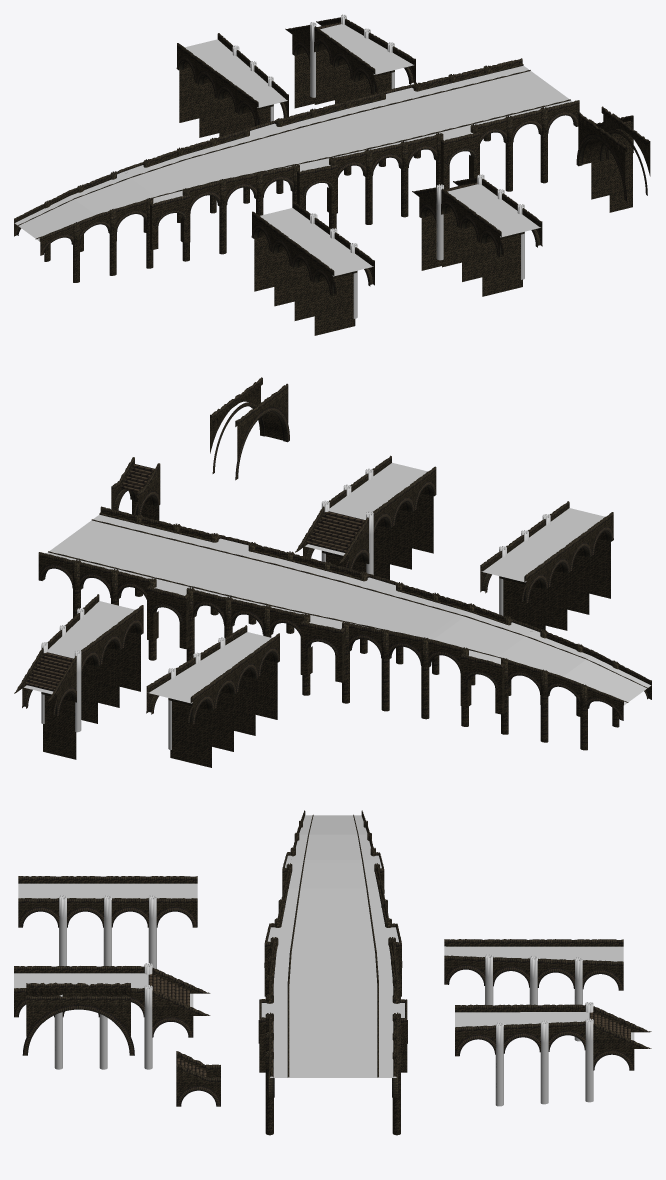
The model's file is EnvMdrMD_Mount_C_Bridge_A.FBX.
3 views of the same model, one above another, from view 1: azimuth 30°, elevation 25°; view 2: azimuth 150°, elevation 25°; view 3: azimuth 270°, elevation 25° (orthographic). The views are drawn at different scales.
Visible parts, largest first — view 1: EnvMdrMD_Mount_C_Bridge_Floor_Unique_Deform_A, EnvMdrMD_Mount_C_Bridge_B_Spline, EnvMdrMD_Mount_C_Bridge_B_Spline_AddStairs_A, EnvMdrMD_Mount_C_Bridge_B_Spline_AddStairs_A_Deform, EnvMdrMD_Mount_C_Bridge_B_Spline_Deform, EnvMdrMD_Mount_C_Bridge_A, EnvMdrMD_Mount_C_Bridge_Stairs_A; view 2: EnvMdrMD_Mount_C_Bridge_Floor_Unique_Deform_A, EnvMdrMD_Mount_C_Bridge_B_Spline_AddStairs_A_Deform, EnvMdrMD_Mount_C_Bridge_B_Spline_Deform, EnvMdrMD_Mount_C_Bridge_B_Spline, EnvMdrMD_Mount_C_Bridge_B_Spline_AddStairs_A, EnvMdrMD_Mount_C_Bridge_A, EnvMdrMD_Mount_C_Bridge_Stairs_A; view 3: EnvMdrMD_Mount_C_Bridge_Floor_Unique_Deform_A, EnvMdrMD_Mount_C_Bridge_B_Spline_AddStairs_A_Deform, EnvMdrMD_Mount_C_Bridge_B_Spline, EnvMdrMD_Mount_C_Bridge_B_Spline_Deform, EnvMdrMD_Mount_C_Bridge_B_Spline_AddStairs_A, EnvMdrMD_Mount_C_Bridge_A, EnvMdrMD_Mount_C_Bridge_Stairs_A.
Part boxes in pixels (x1,y1,x2,y2): EnvMdrMD_Mount_C_Bridge_Floor_Unique_Deform_A: (14, 58, 579, 282); EnvMdrMD_Mount_C_Bridge_B_Spline: (251, 201, 374, 335); EnvMdrMD_Mount_C_Bridge_B_Spline_AddStairs_A: (412, 174, 542, 296); EnvMdrMD_Mount_C_Bridge_B_Spline_AddStairs_A_Deform: (285, 14, 415, 108); EnvMdrMD_Mount_C_Bridge_B_Spline_Deform: (176, 33, 288, 137); EnvMdrMD_Mount_C_Bridge_A: (576, 106, 650, 201); EnvMdrMD_Mount_C_Bridge_Stairs_A: (589, 113, 633, 212); EnvMdrMD_Mount_C_Bridge_Floor_Unique_Deform_A: (38, 506, 651, 750); EnvMdrMD_Mount_C_Bridge_B_Spline_AddStairs_A_Deform: (14, 594, 143, 759); EnvMdrMD_Mount_C_Bridge_B_Spline_Deform: (146, 625, 279, 767); EnvMdrMD_Mount_C_Bridge_B_Spline: (480, 501, 613, 630); EnvMdrMD_Mount_C_Bridge_B_Spline_AddStairs_A: (295, 455, 436, 579); EnvMdrMD_Mount_C_Bridge_A: (210, 377, 289, 480); EnvMdrMD_Mount_C_Bridge_Stairs_A: (111, 457, 160, 520); EnvMdrMD_Mount_C_Bridge_Floor_Unique_Deform_A: (258, 810, 407, 1135); EnvMdrMD_Mount_C_Bridge_B_Spline_AddStairs_A_Deform: (455, 1002, 651, 1106); EnvMdrMD_Mount_C_Bridge_B_Spline: (18, 876, 197, 968); EnvMdrMD_Mount_C_Bridge_B_Spline_Deform: (444, 939, 623, 1041); EnvMdrMD_Mount_C_Bridge_B_Spline_AddStairs_A: (14, 963, 210, 1069); EnvMdrMD_Mount_C_Bridge_A: (22, 982, 134, 1055); EnvMdrMD_Mount_C_Bridge_Stairs_A: (176, 1051, 220, 1106).
Size of the model in its own units: 9230 by 2401 by 8535.
